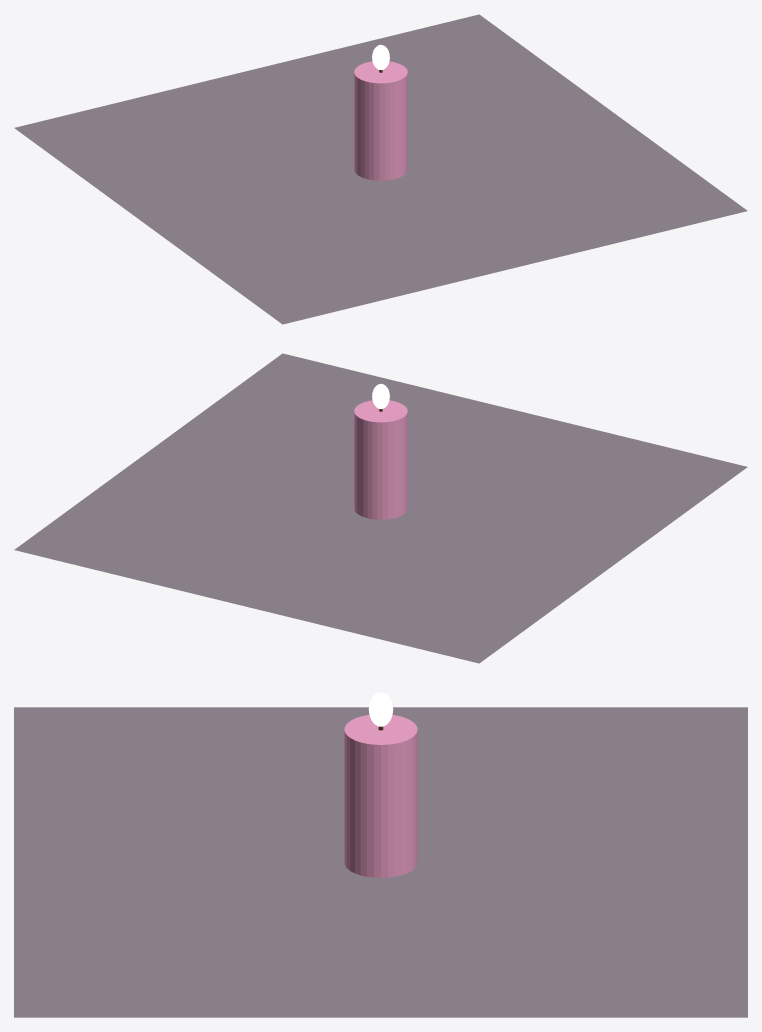
The picture shows the model from 3 angles, top to bottom: view 1: azimuth 30°, elevation 25°; view 2: azimuth 150°, elevation 25°; view 3: azimuth 270°, elevation 25°; orthographic projection. The views are drawn at different scales.
Bounding box in the file's own units: 3 × 0.7651 × 3.
